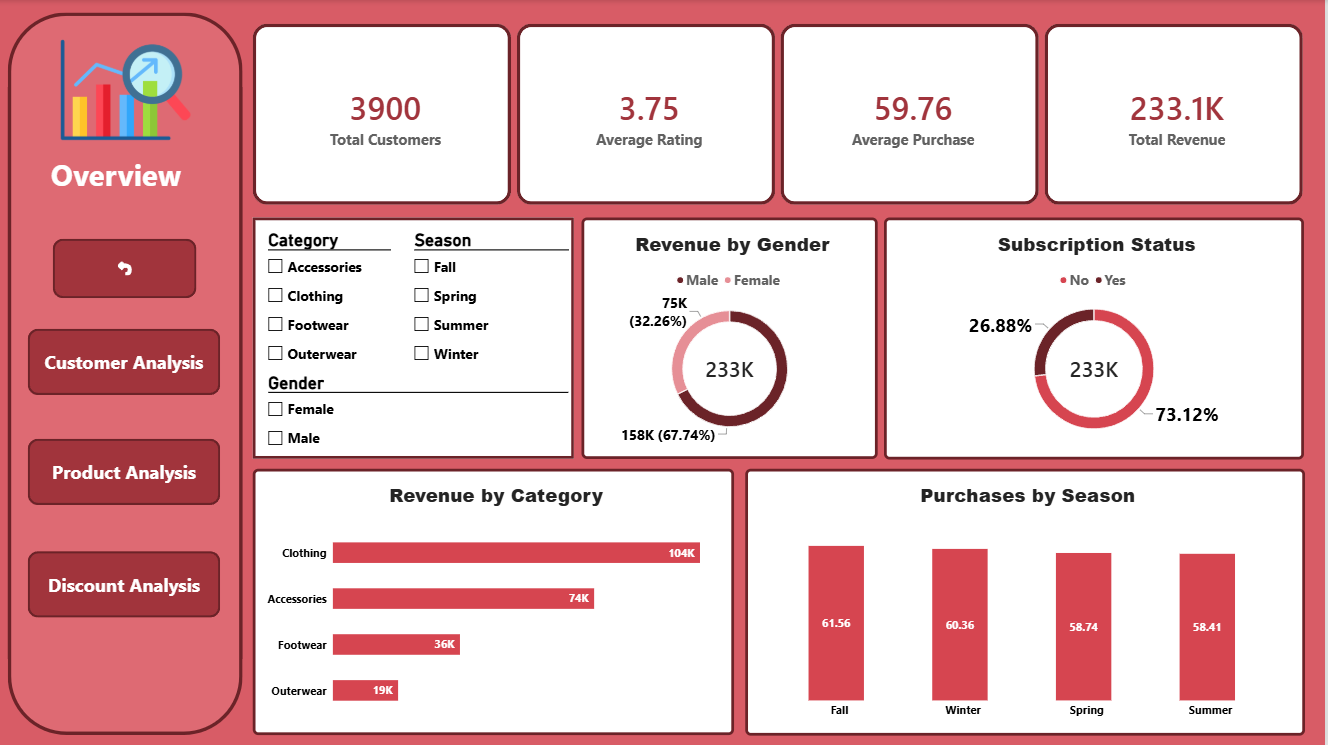

The dashboard page shown, as its layout file describes it:
{"tool":"powerbi","page":{"name":"Overview","canvas":[1920,1080],"ordinal":1},"visuals":[{"type":"shape","box":[367.4,314.9,465.1,349.3],"z":0},{"type":"shape","box":[12,18,340,1046],"z":1000},{"type":"actionButton","box":[41.6,475.9,278.7,95.9],"z":2000},{"type":"actionButton","box":[41.6,635.2,278.7,95.9],"z":3000},{"type":"actionButton","box":[41.6,798.1,278.7,95.9],"z":4000},{"type":"actionButton","box":[78,346,208,86],"z":5000},{"type":"cardVisual","fields":{"Data":["public customer.Number of Customers","public customer.Average Review Rating","public customer.Average Purchase Amount","Sum(public customer.purchase_amount)"]},"box":[367.4,34.4,1523.7,262.4],"z":6000},{"type":"image","box":[32,36,302,188],"z":7000},{"type":"clusteredBarChart","title":"Revenue by Category","fields":{"Category":["public customer.category"],"Y":["Sum(public customer.purchase_amount)"]},"box":[367.4,678.6,696.7,385.5],"z":8000},{"type":"donutChart","title":"Revenue by Gender","fields":{"Category":["public customer.gender"],"Y":["Sum(public customer.purchase_amount)"]},"box":[843.3,314.9,428.9,349.3],"z":9000},{"type":"clusteredColumnChart","title":"Purchases by Season","fields":{"Category":["public customer.season"],"Y":["Avg(public customer.purchase_amount)"]},"box":[1080,678,810,386],"z":10000},{"type":"donutChart","title":"Subscription Status","fields":{"Category":["public customer.subscription_status"],"Y":["Sum(public customer.purchase_amount)"]},"box":[1282,314,608,350],"z":11000},{"type":"textbox","box":[32,222,274,74],"z":12000},{"type":"slicer","fields":{"Values":["public customer.gender"]},"box":[381.8,539.3,450.6,124.9],"z":13000},{"type":"slicer","fields":{"Values":["public customer.category"]},"box":[381.8,333,193.6,206.3],"z":14000},{"type":"slicer","fields":{"Values":["public customer.season"]},"box":[593.6,333,238.9,206.3],"z":15000}]}

Visuals, with their boxes in screenshot pixels (x1, y1, x2, y2), scaled from the page's 1920x1080 canvas onto the 1328x745 screenshot:
shape: <region>254, 217, 576, 458</region>
shape: <region>8, 12, 243, 734</region>
actionButton: <region>29, 328, 222, 394</region>
actionButton: <region>29, 438, 222, 504</region>
actionButton: <region>29, 551, 222, 617</region>
actionButton: <region>54, 239, 198, 298</region>
cardVisual - public customer.Number of Customers x public customer.Average Review Rating: <region>254, 24, 1308, 205</region>
image: <region>22, 25, 231, 155</region>
"Revenue by Category" clusteredBarChart: <region>254, 468, 736, 734</region>
"Revenue by Gender" donutChart: <region>583, 217, 880, 458</region>
"Purchases by Season" clusteredColumnChart: <region>747, 468, 1307, 734</region>
"Subscription Status" donutChart: <region>887, 217, 1307, 458</region>
textbox: <region>22, 153, 212, 204</region>
slicer - public customer.gender: <region>264, 372, 576, 458</region>
slicer - public customer.category: <region>264, 230, 398, 372</region>
slicer - public customer.season: <region>411, 230, 576, 372</region>
